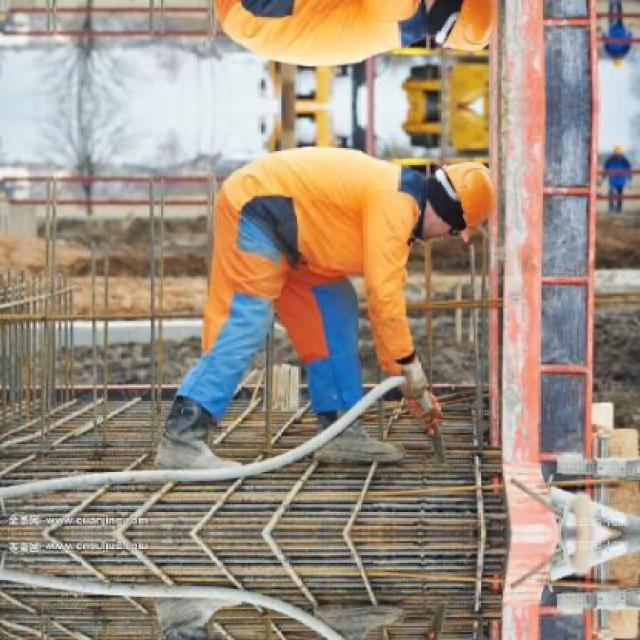helmet: (412, 156, 508, 242), (412, 0, 510, 59)
